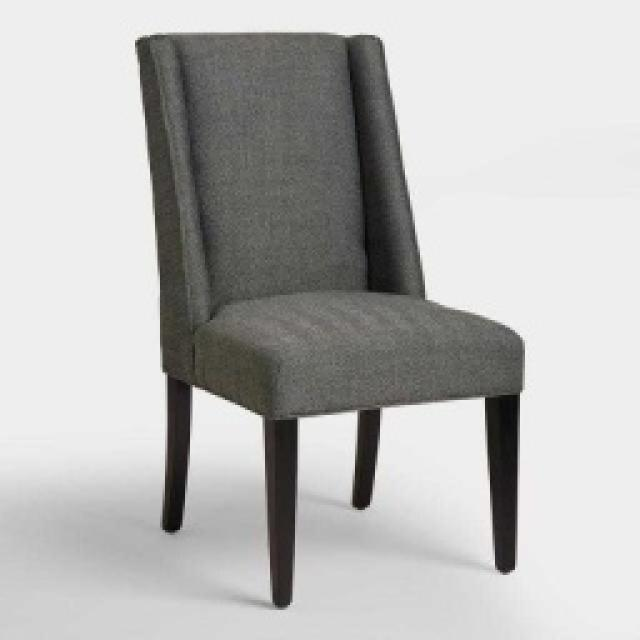sandalye: (132, 30, 526, 608)
